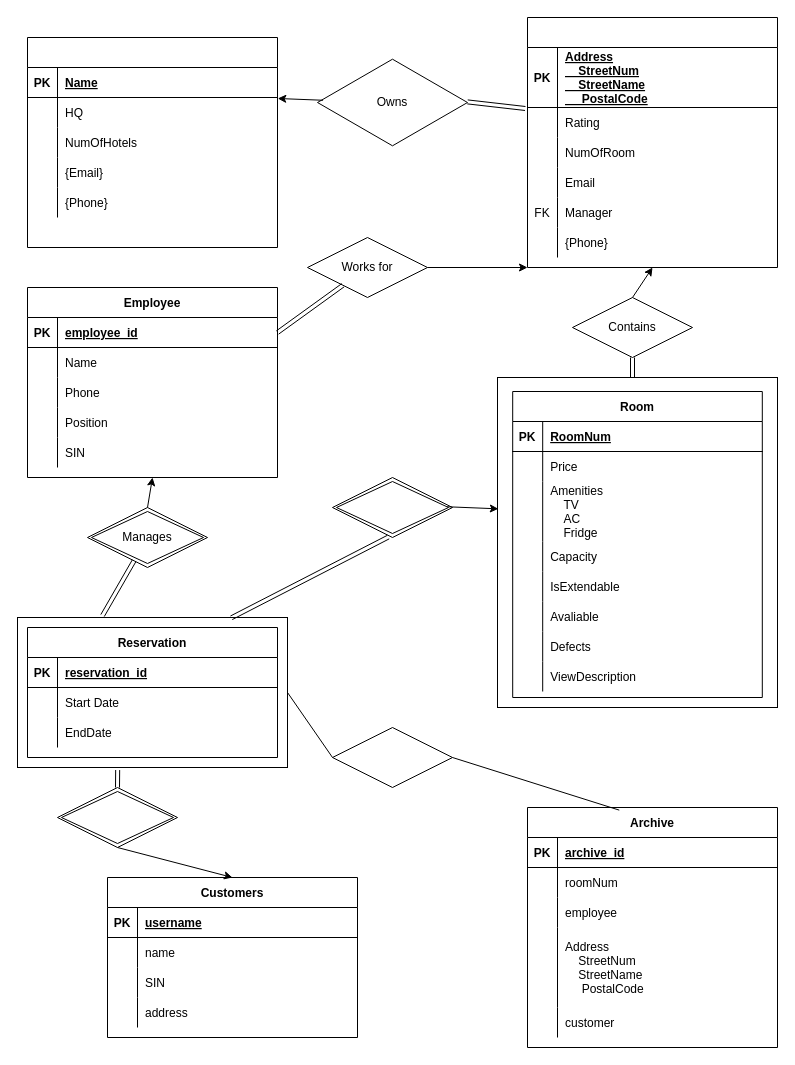
This 795x1065 diagram has some shape labels left out. Here are the shapes that lost their labels. From the top down, the box of each, then its label:
(26, 36, 278, 248): Hotel Chain
(526, 16, 778, 268): Hotel Instance
(332, 476, 452, 538): For
(332, 726, 452, 788): Records
(56, 786, 178, 848): Makes
